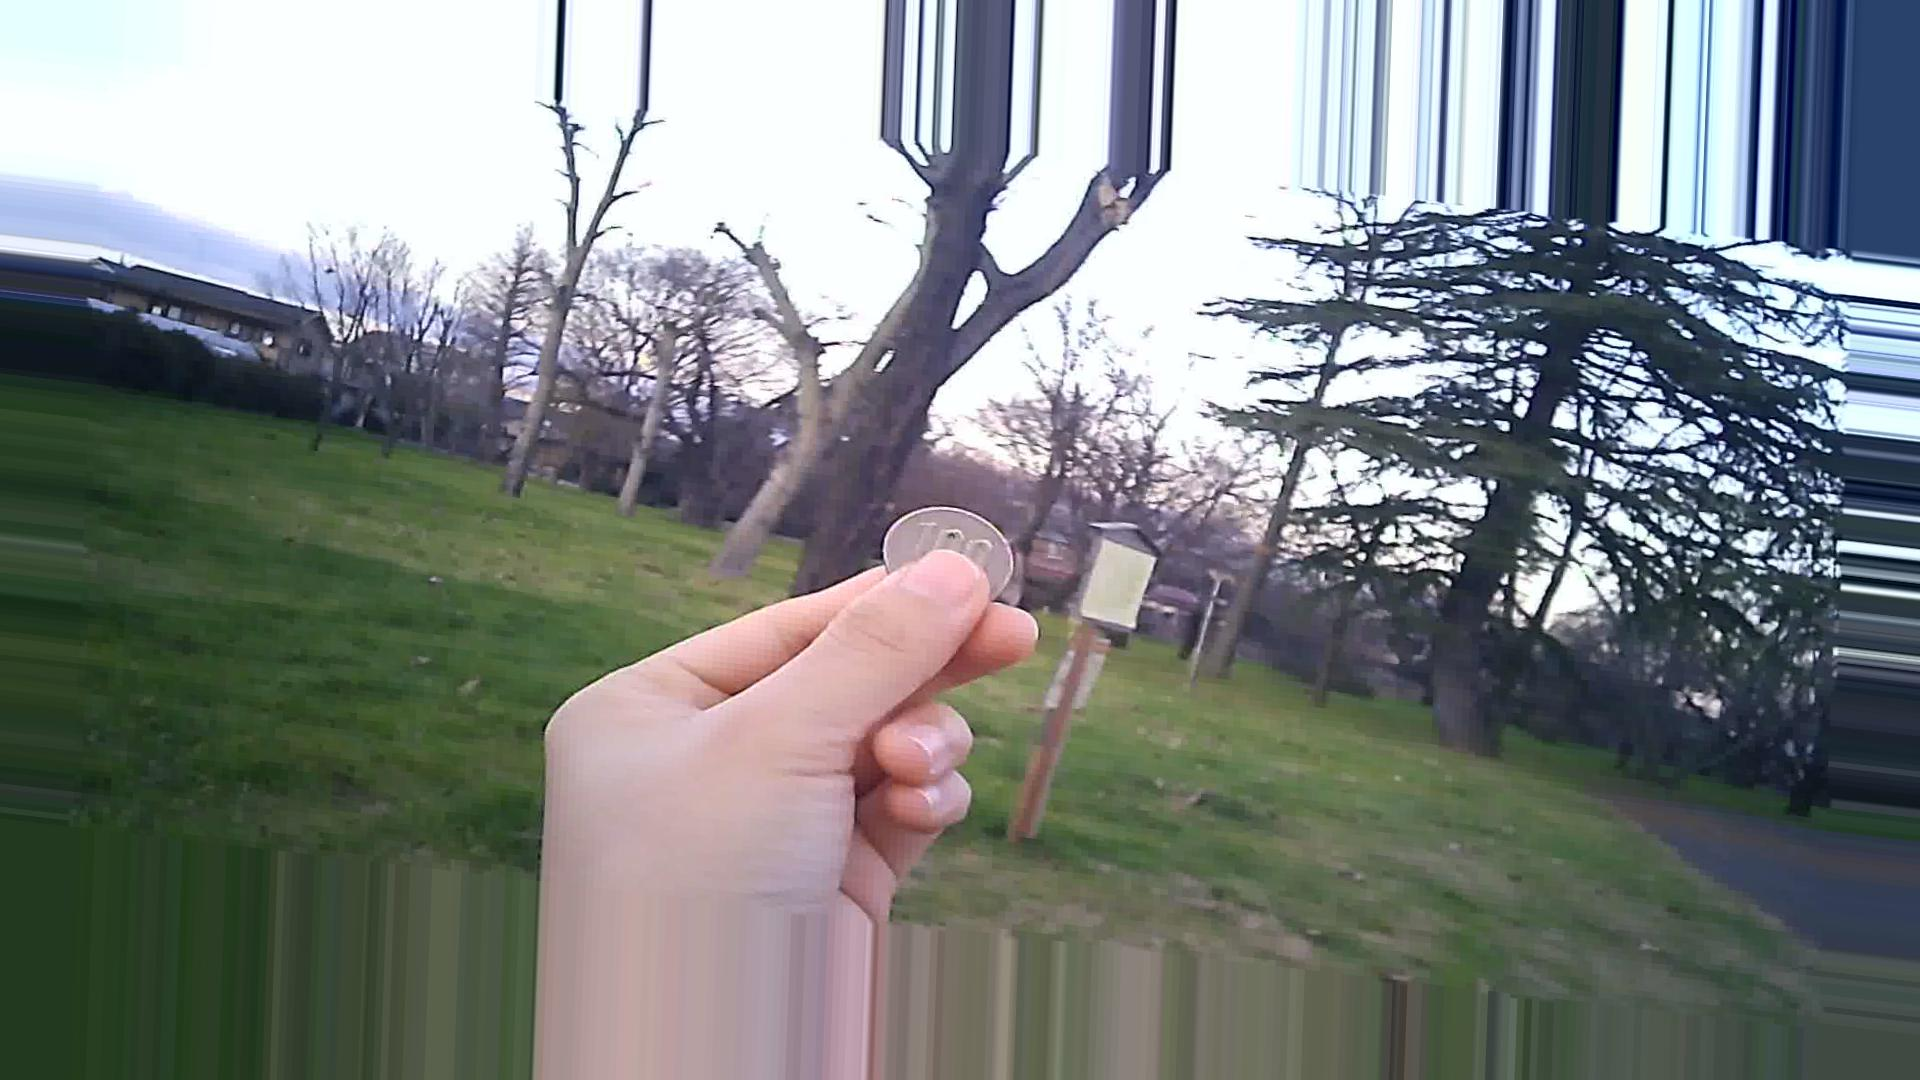100 Yen: (880, 501, 1011, 611)
